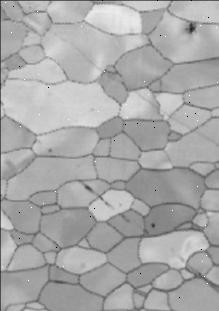good_void: (82, 183, 97, 195), (181, 28, 199, 37), (148, 219, 160, 231), (76, 261, 88, 270), (47, 147, 55, 153), (89, 105, 95, 112)
